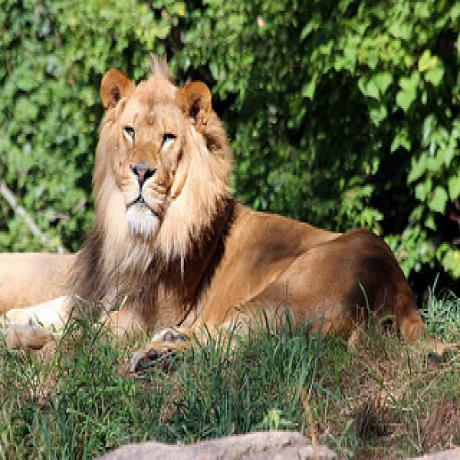Lion: (70, 66, 424, 364)
